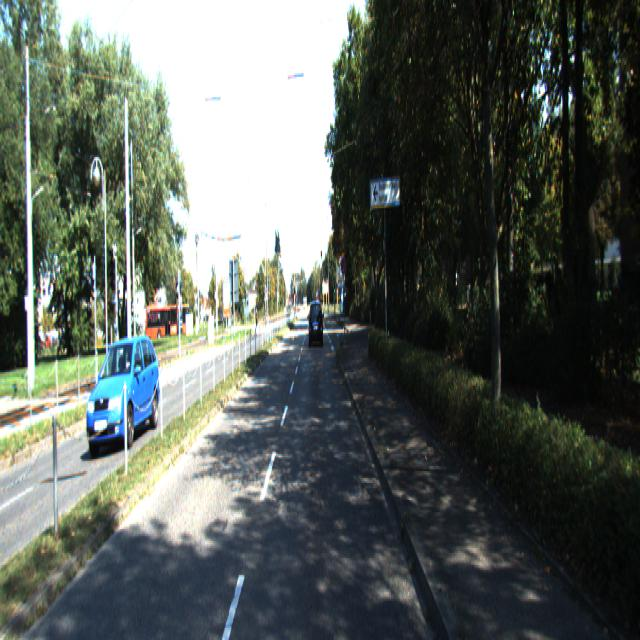Car: (86, 330, 160, 450), (309, 301, 324, 349)
